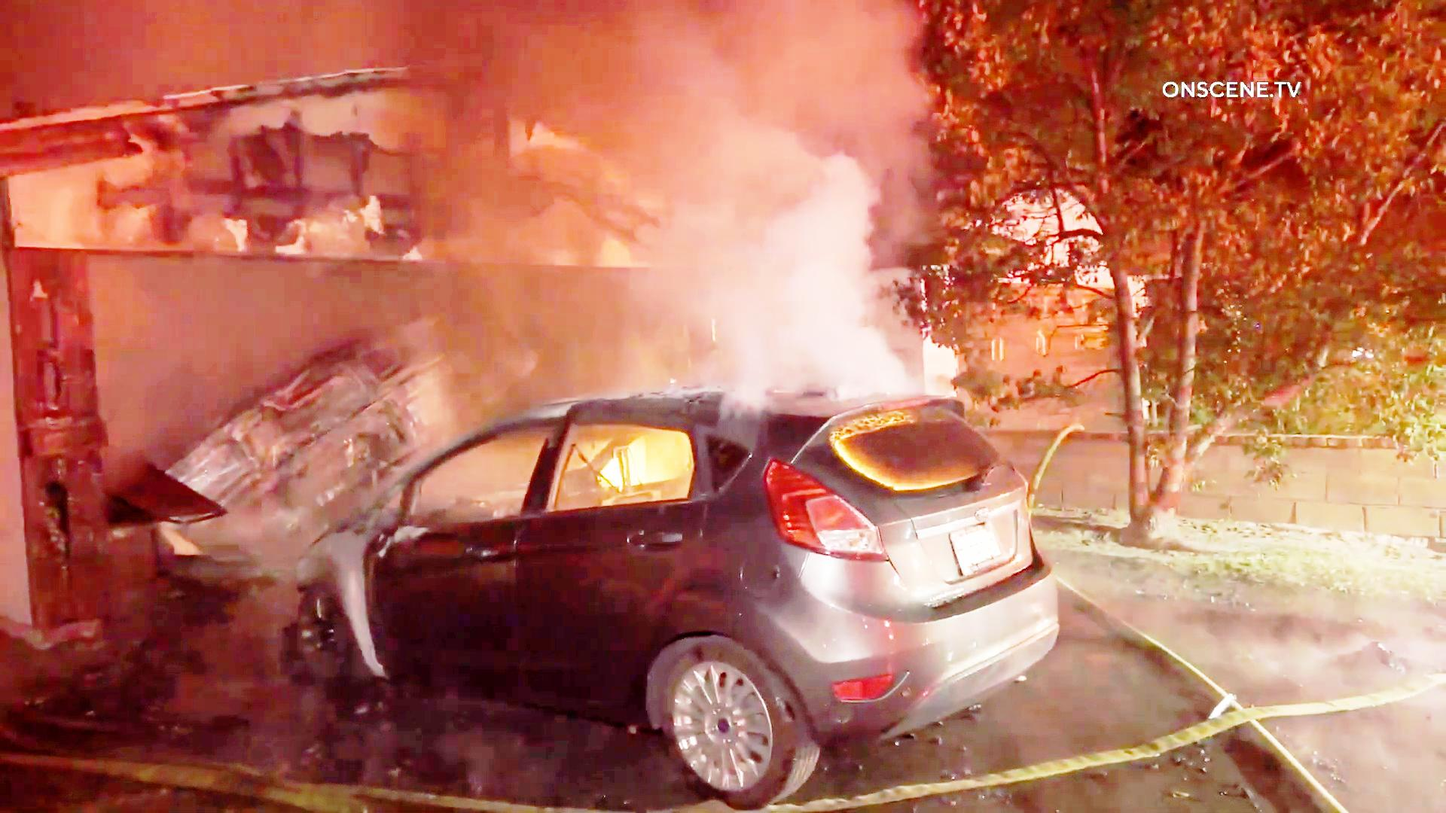smoke: (669, 11, 871, 389)
